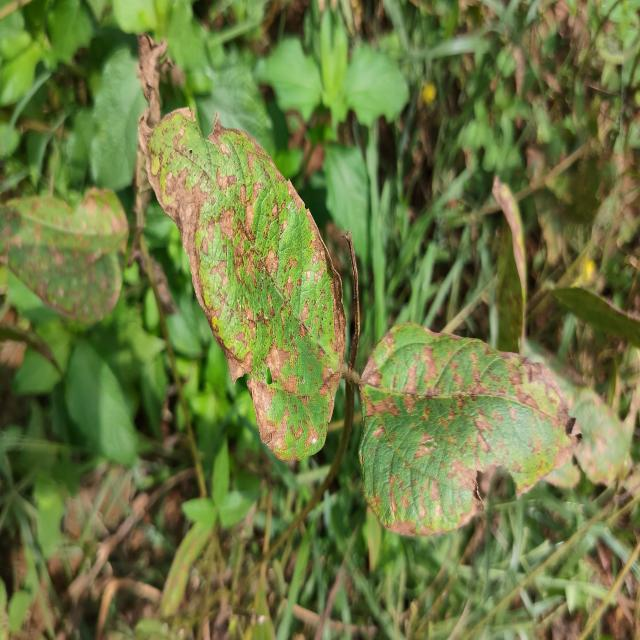Black gram_leaf spot: (138, 107, 346, 460), (359, 323, 582, 535)
